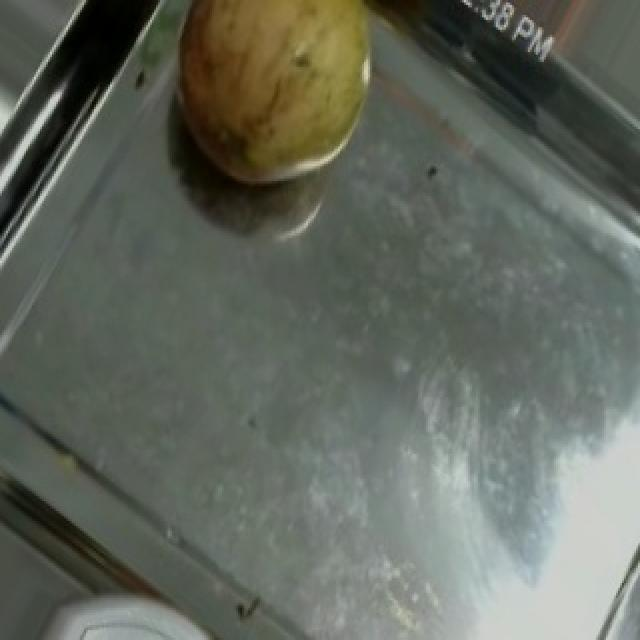fruit: (140, 0, 408, 213)
